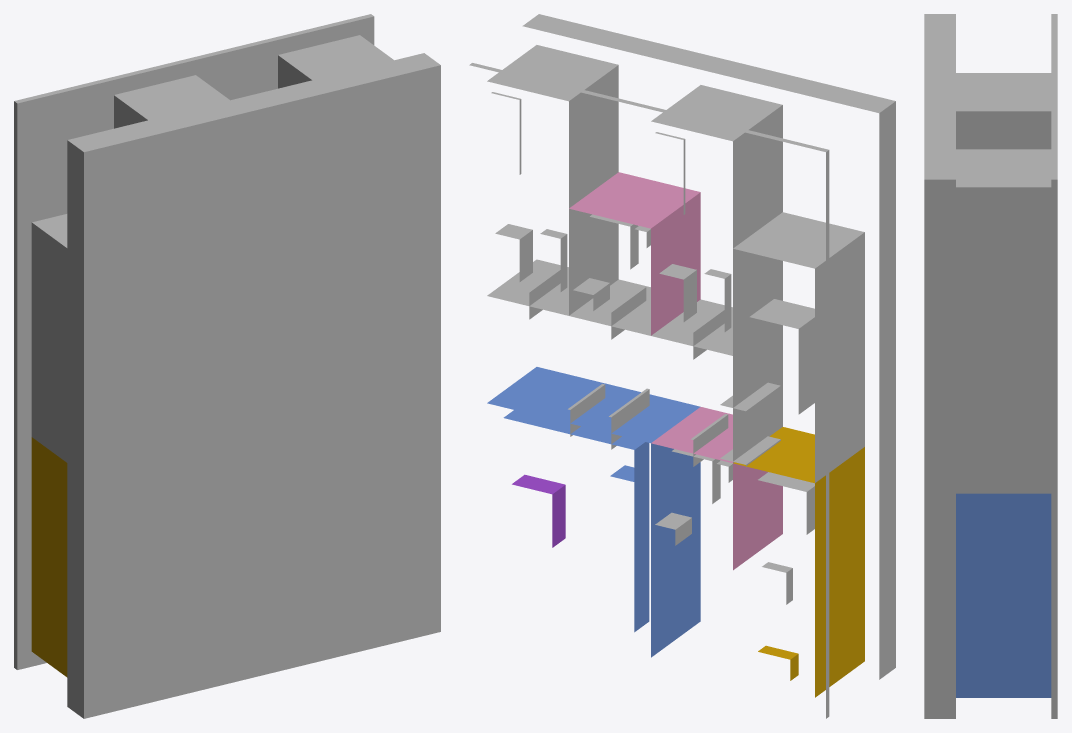
Rendered from model_20250716_202436_reliable.glb.
The picture shows the model from 3 angles, left to right: view 1: azimuth 30°, elevation 25°; view 2: azimuth 150°, elevation 25°; view 3: azimuth 270°, elevation 25°; orthographic projection. The views are drawn at different scales.
Visible parts, largest first — view 1: furniture_20_roof, furniture_19_foundation, Garage, Tv_lounge, Washroom; view 2: Washroom, Kitchen, furniture_20_roof, Bedroom, Garage, Tv_lounge, Corridor, furniture_19_foundation, furniture_4_kitchen_counter, furniture_18_car, furniture_3_kitchen_counter, furniture_5_dining_table (+8 smaller); view 3: Washroom, furniture_20_roof, Kitchen, Corridor, furniture_19_foundation.
Part boxes in pixels (x1,y1,x2,y2): furniture_20_roof: [67, 53, 440, 718]; furniture_19_foundation: [14, 14, 374, 669]; Garage: [31, 214, 67, 462]; Tv_lounge: [31, 437, 67, 677]; Washroom: [114, 35, 393, 128]; Washroom: [487, 45, 782, 355]; Kitchen: [487, 367, 700, 657]; furniture_20_roof: [522, 14, 895, 679]; Bedroom: [569, 172, 782, 570]; Garage: [733, 212, 864, 482]; Tv_lounge: [733, 427, 864, 697]; Corridor: [487, 259, 782, 462]; furniture_19_foundation: [469, 63, 829, 718]; furniture_4_kitchen_counter: [610, 465, 649, 632]; furniture_18_car: [750, 299, 814, 414]; furniture_3_kitchen_counter: [503, 410, 649, 481]; furniture_5_dining_table: [512, 474, 565, 547]; Washroom: [956, 73, 1051, 391]; furniture_20_roof: [924, 14, 955, 718]; Kitchen: [956, 493, 1051, 697]; Corridor: [956, 391, 1051, 493]; furniture_19_foundation: [1051, 14, 1057, 718].
Size of the model in its own units: 12.38 by 18.78 by 4.2.
